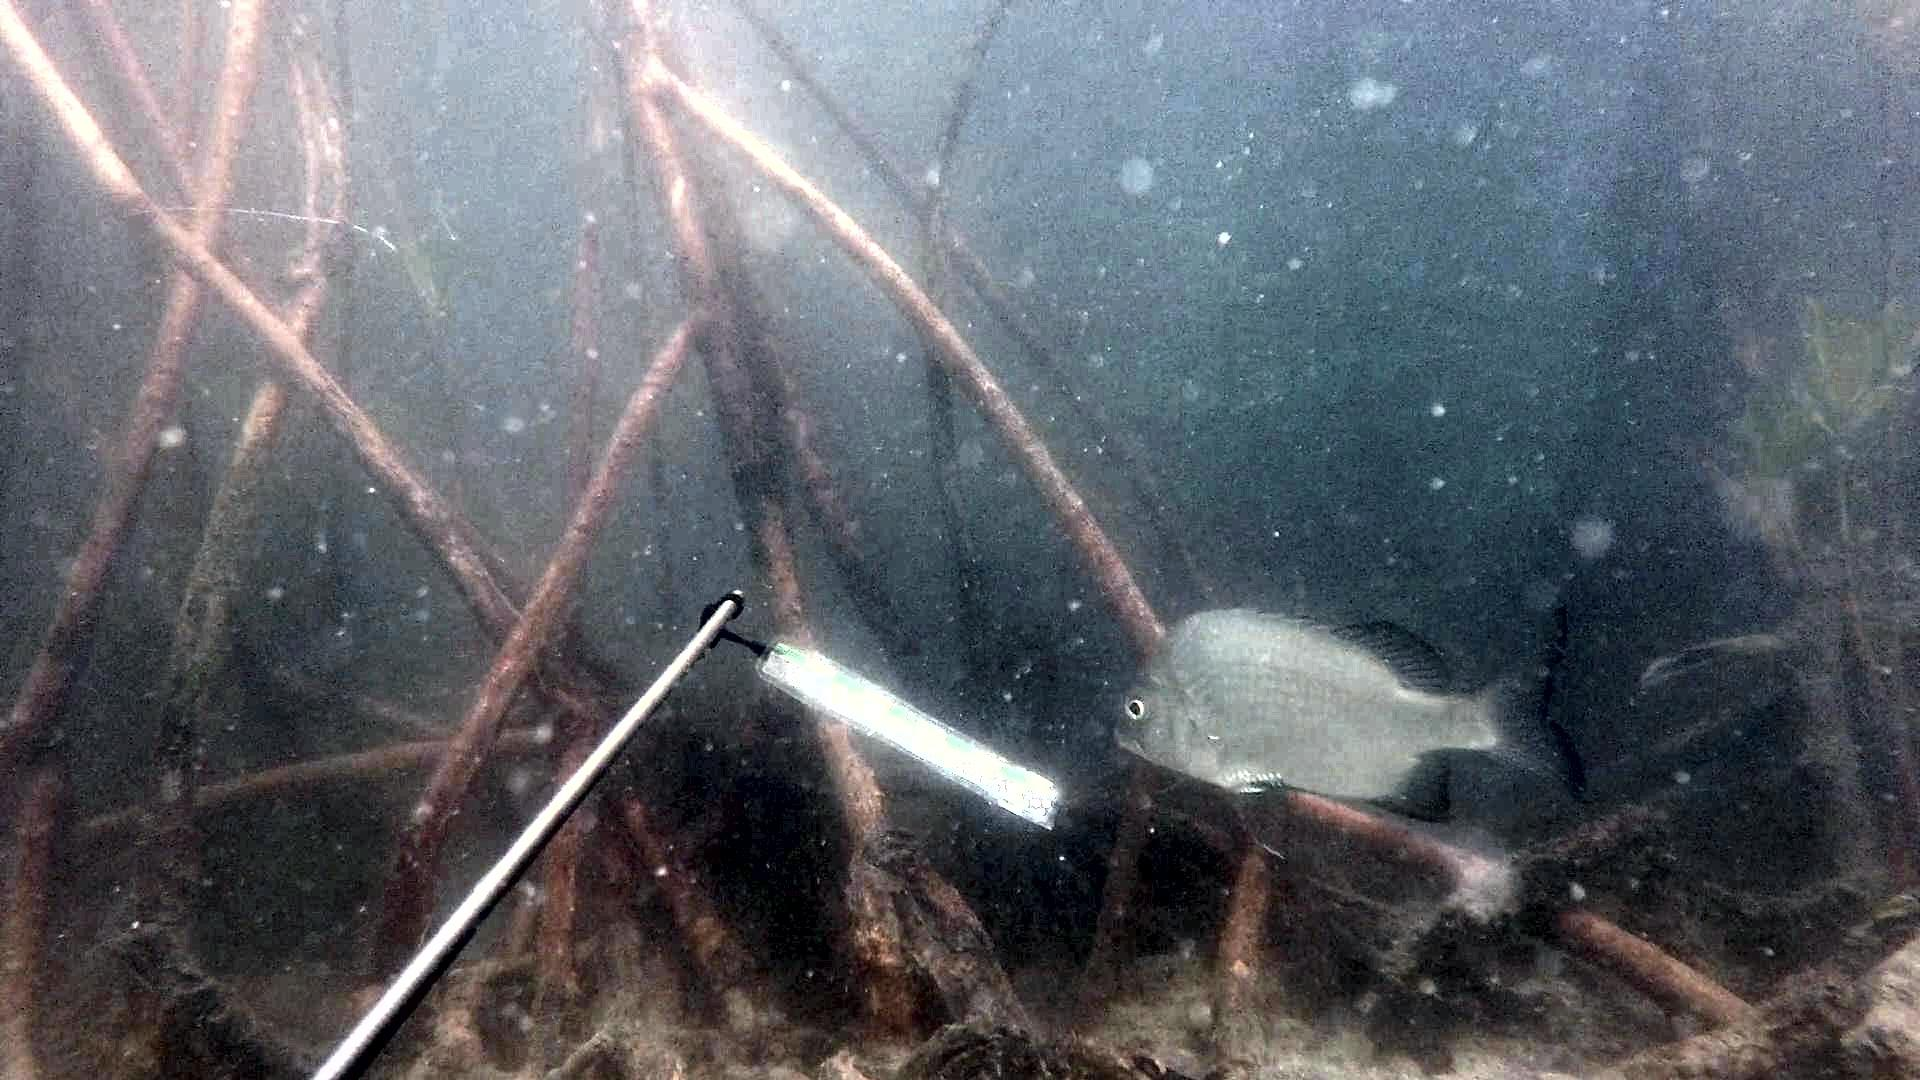acanthopagrus palmaris: (1106, 597, 1592, 861)
